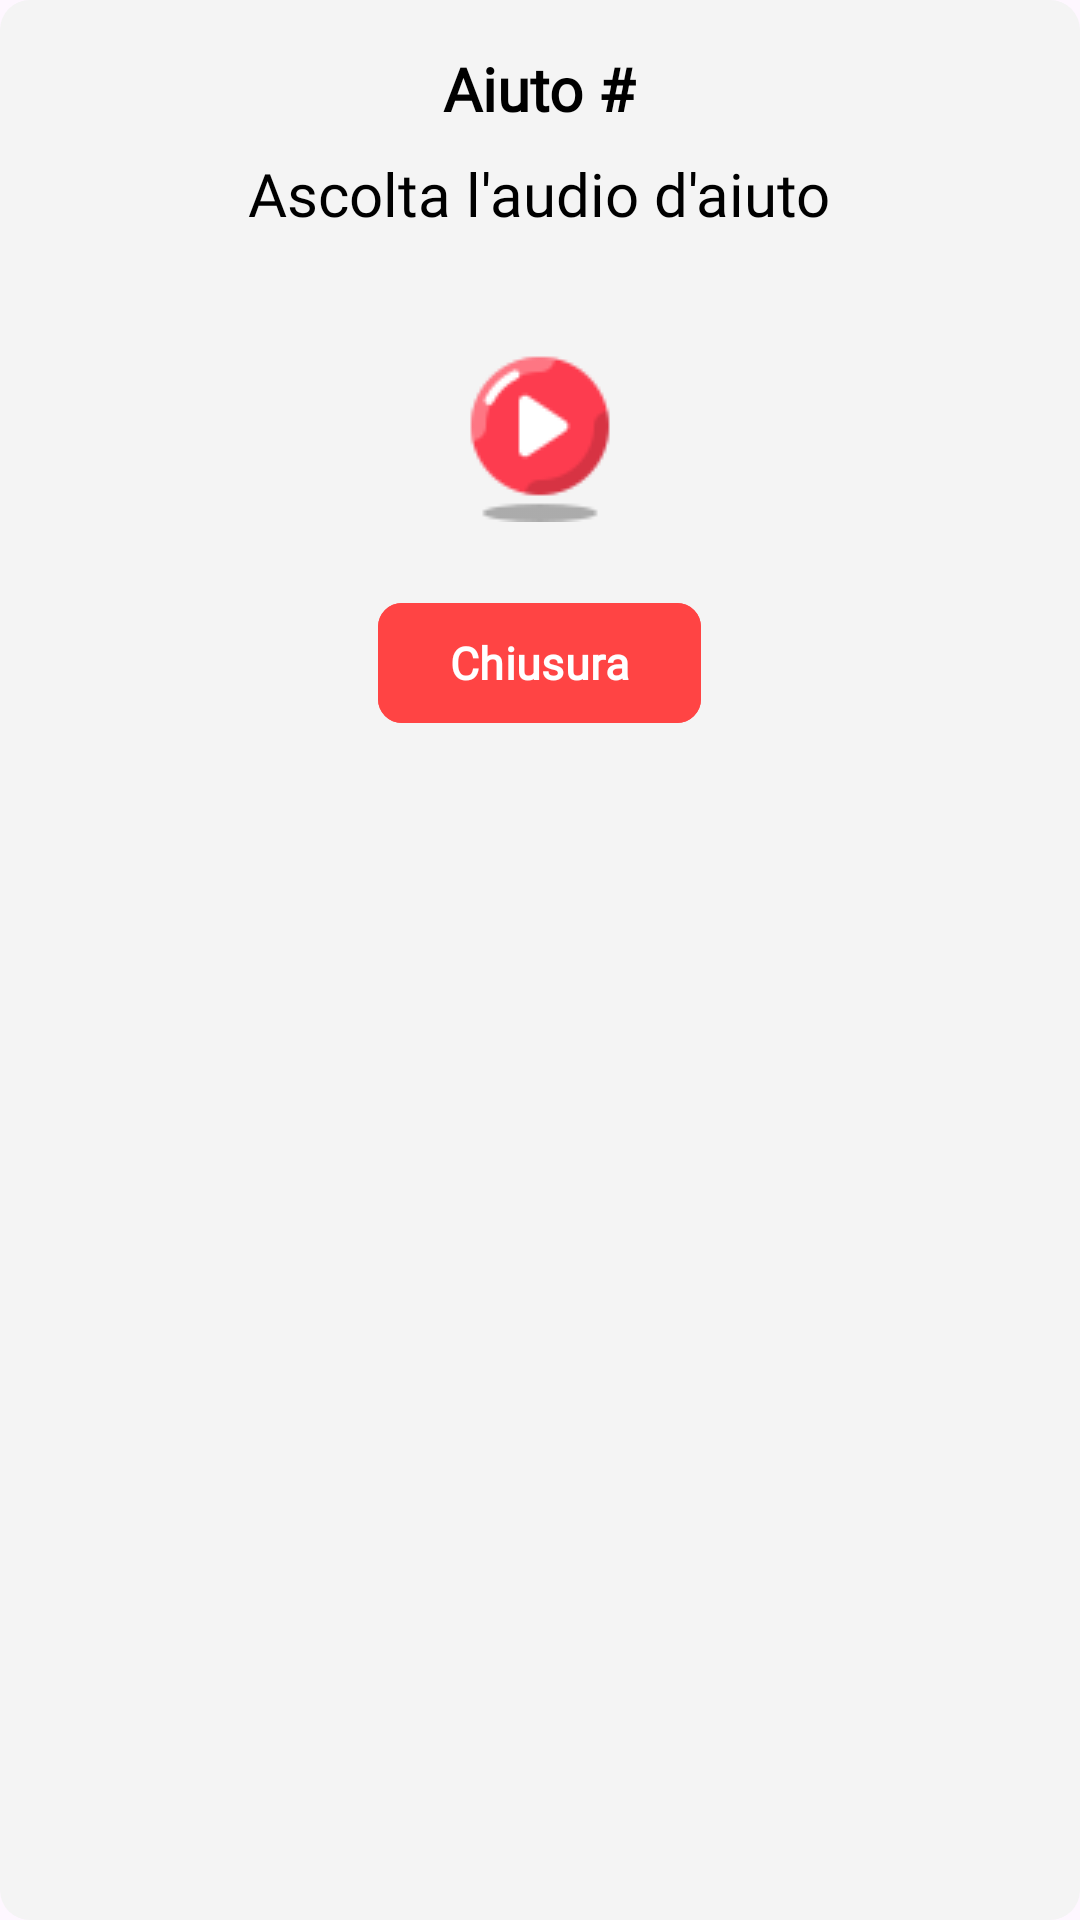

Icon bounding boxes for this 1080x1920 phone screenshot, format (x1, y1, x2, y2):
play child: (470, 356, 610, 522)
